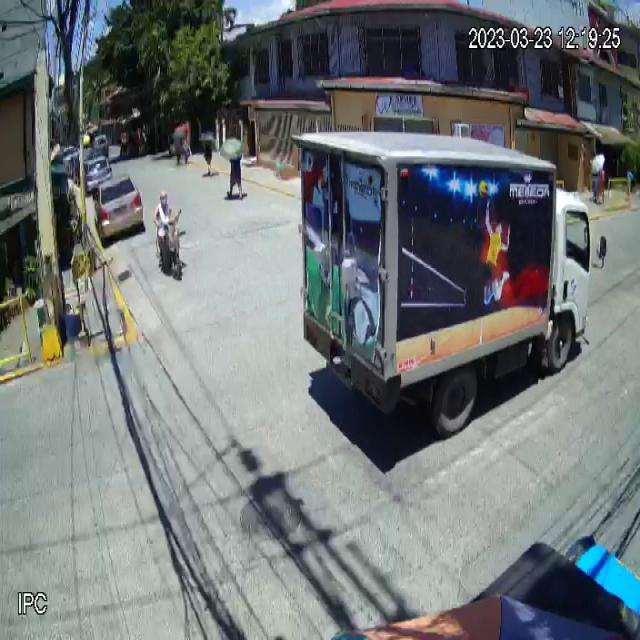Truck: (291, 132, 608, 436)
